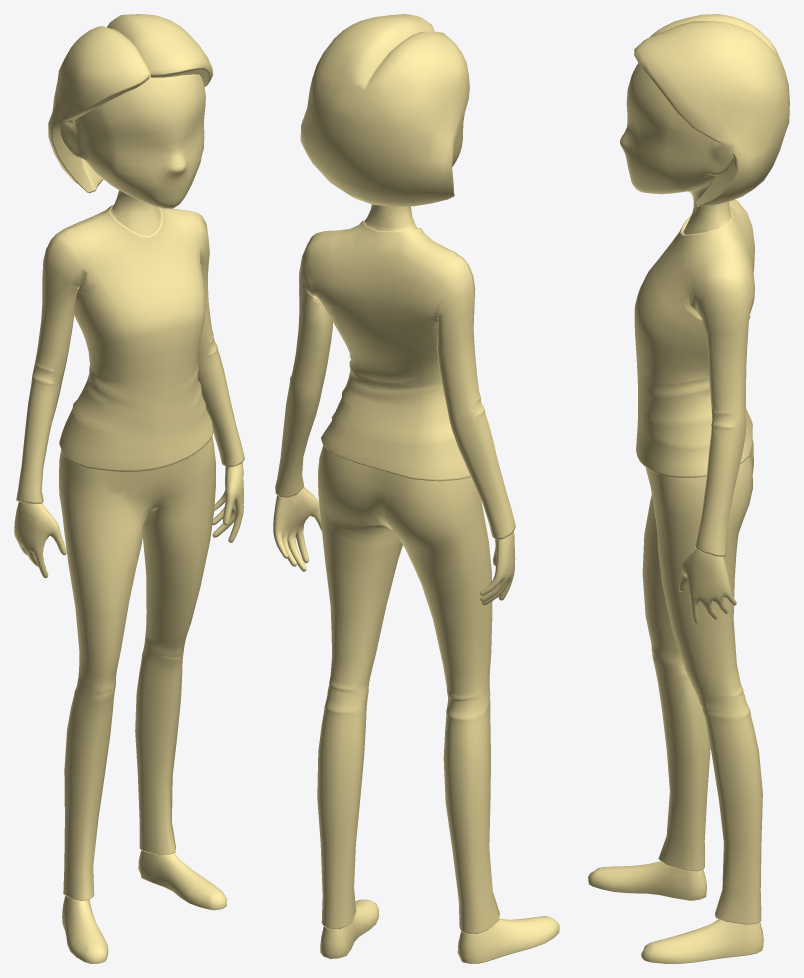
The model's file is female_new_dummy.glb.
3 views of the same model, side by side, from view 1: azimuth 30°, elevation 25°; view 2: azimuth 150°, elevation 25°; view 3: azimuth 270°, elevation 25° (orthographic). The views are drawn at different scales.
Parts seen in each view (by area): view 1: mesh_id30; view 2: mesh_id30; view 3: mesh_id30.
Boxes of the visible parts, x1,y1,x2,y2 form: mesh_id30: [14, 14, 244, 963]; mesh_id30: [273, 14, 559, 963]; mesh_id30: [588, 14, 789, 963].
Size of the model in its own units: 0.1341 by 0.502 by 0.101.
1 material, 1 textured.
